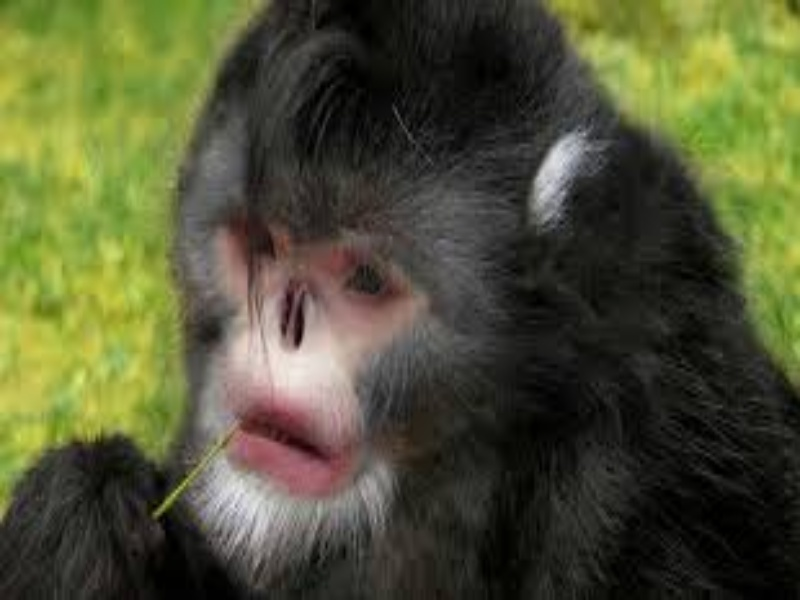monkey: (16, 10, 774, 576)
